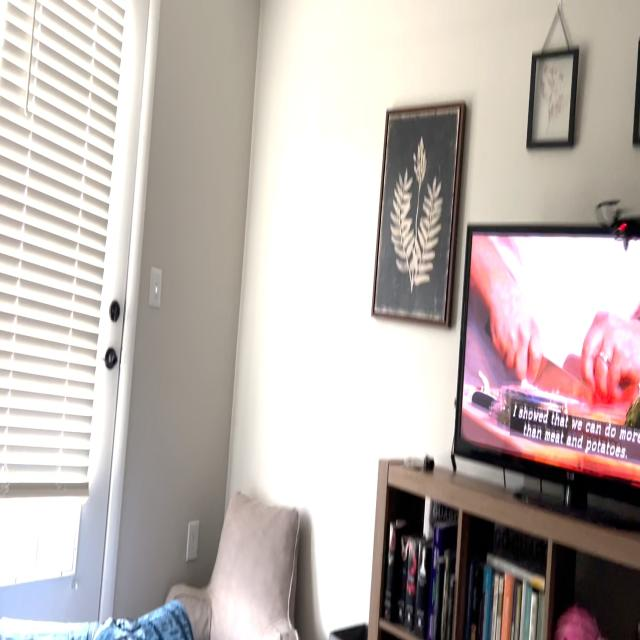drone: (588, 182, 640, 252)
